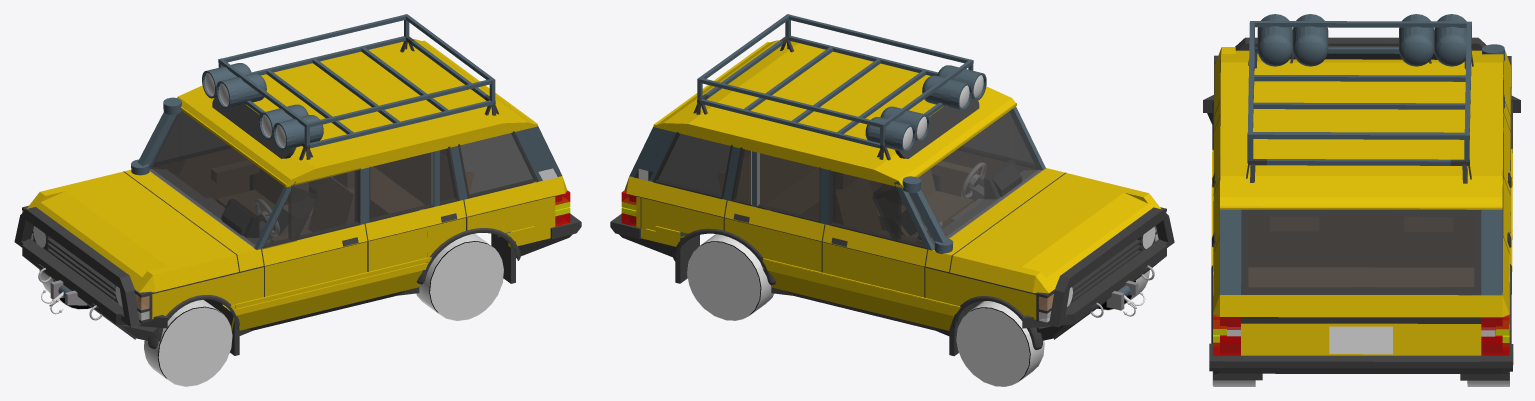
Rendered from car.dae.
The picture shows the model from 3 angles, left to right: view 1: azimuth 30°, elevation 25°; view 2: azimuth 150°, elevation 25°; view 3: azimuth 270°, elevation 25°; orthographic projection. The views are drawn at different scales.
Parts seen in each view (by area): view 1: Part271_001, Part215_001, Part51_001, Part47_001, Wheel24_001, Wheel18_001, Part64_001, Part231_001, Part132_001, Part221_001, Part202_001, Wedge114_001 (+51 smaller); view 2: Part271_001, Part215_001, Part51_001, Part47_001, Wheel6_001, Wheel12_001, Part142_001, Part179_001, Part54_001, Part182_001, Wedge114_001, Part187_001 (+54 smaller); view 3: Part51_001, Part146_001, Part61_001, Part47_001, Wedge64_001, Wedge12_001, Wedge39_001, Part71_001, Part50_001, Wedge20_001, Part134_001, Part114_001 (+45 smaller).
Part boxes in pixels (bbox=[...]): Part271_001: bbox=[60, 170, 255, 270]; Part215_001: bbox=[149, 111, 284, 247]; Part51_001: bbox=[246, 60, 434, 173]; Part47_001: bbox=[326, 43, 503, 144]; Wheel24_001: bbox=[158, 307, 232, 386]; Wheel18_001: bbox=[430, 241, 503, 320]; Part64_001: bbox=[370, 148, 457, 220]; Part231_001: bbox=[288, 168, 360, 241]; Part132_001: bbox=[460, 133, 535, 196]; Part221_001: bbox=[265, 242, 367, 296]; Part202_001: bbox=[231, 270, 422, 330]; Wedge114_001: bbox=[41, 191, 166, 277]; Part271_001: bbox=[933, 168, 1129, 270]; Part215_001: bbox=[908, 109, 1042, 246]; Part51_001: bbox=[756, 60, 986, 174]; Part47_001: bbox=[688, 43, 866, 145]; Wheel6_001: bbox=[956, 308, 1029, 386]; Wheel12_001: bbox=[687, 242, 760, 320]; Part142_001: bbox=[733, 149, 819, 221]; Part179_001: bbox=[830, 171, 900, 240]; Part54_001: bbox=[656, 133, 730, 196]; Part182_001: bbox=[822, 242, 924, 297]; Wedge114_001: bbox=[1022, 192, 1147, 277]; Part187_001: bbox=[769, 271, 954, 330]; Part51_001: bbox=[1220, 62, 1503, 134]; Part146_001: bbox=[1248, 216, 1474, 287]; Part61_001: bbox=[1248, 217, 1473, 267]; Part47_001: bbox=[1220, 134, 1502, 175]; Wedge64_001: bbox=[1220, 295, 1502, 317]; Wedge12_001: bbox=[1241, 323, 1481, 355]; Wedge39_001: bbox=[1220, 176, 1502, 197]; Part71_001: bbox=[1248, 267, 1473, 285]; Part50_001: bbox=[1241, 355, 1481, 368]; Wedge20_001: bbox=[1220, 197, 1502, 206]; Part134_001: bbox=[1234, 294, 1487, 351]; Part114_001: bbox=[1241, 209, 1481, 216].
Size of the model in its own units: 19.21 by 9 by 8.53.
